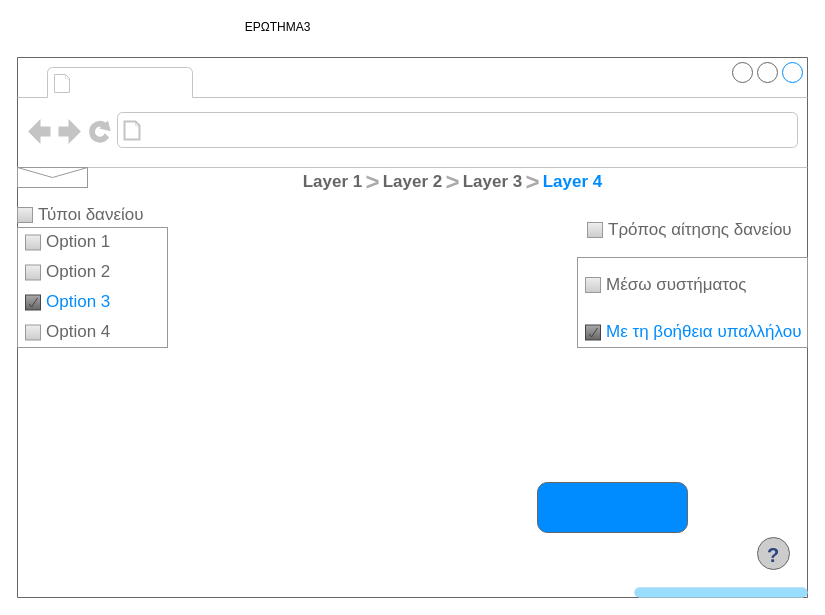
The diagram is 825 pixels wide and 615 high, and some of its shapes have lost their labels. The centre of each missing label's shape, as x and y in pixels:
"https://www.erwthma3.io" belongs at point 272,130.
"Page 1" belongs at point 132,82.
"ΥΠΟΒΟΛΗ" belongs at point 612,507.
